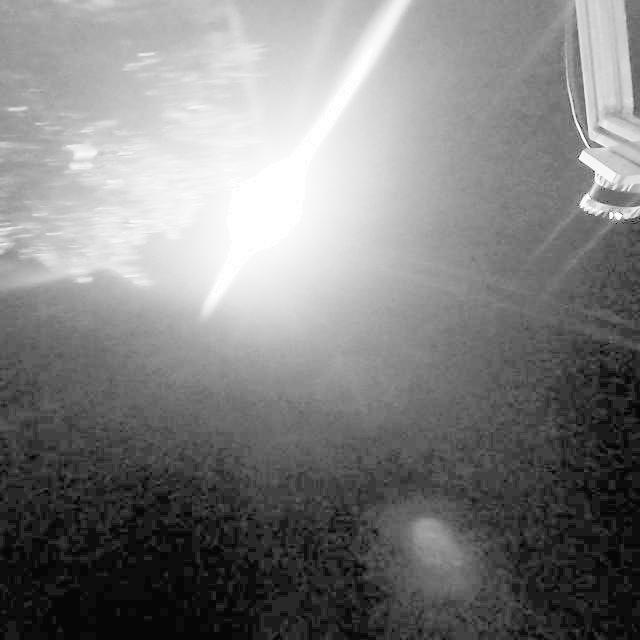Light: (200, 171, 301, 249)
